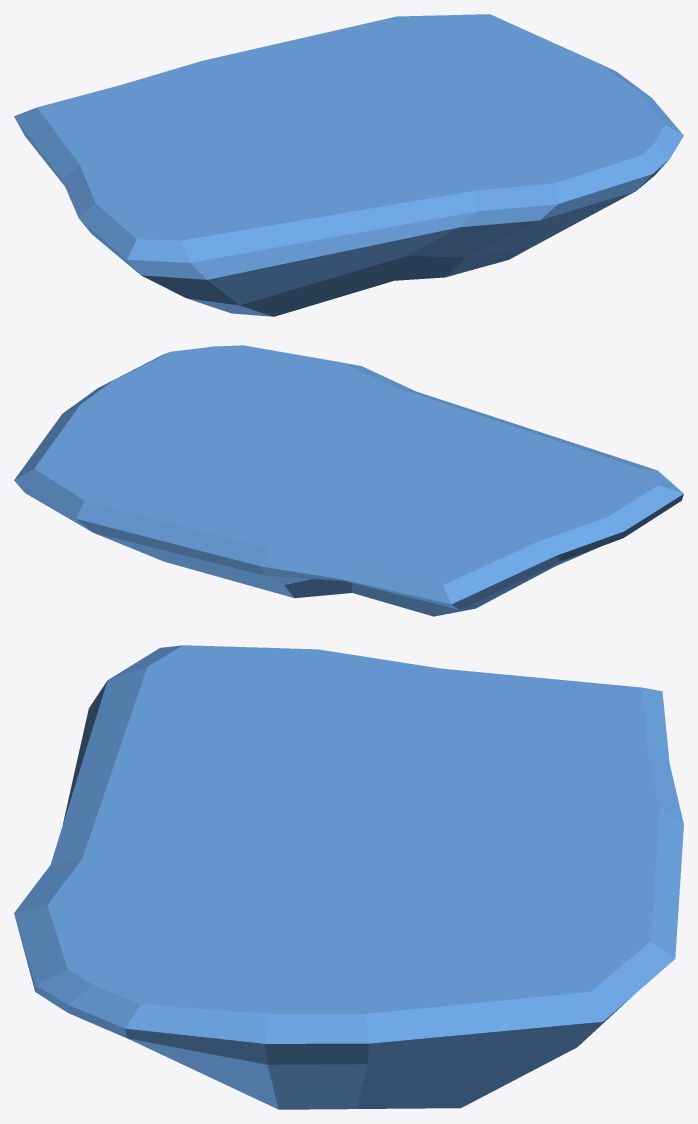
The model's file is slippery platform.fbx.
3 views of the same model, one above another, from view 1: azimuth 30°, elevation 25°; view 2: azimuth 150°, elevation 25°; view 3: azimuth 270°, elevation 25° (orthographic). The views are drawn at different scales.
Parts seen in each view (by area): view 1: Plane; view 2: Plane; view 3: Plane.
Part boxes in pixels (<box>): Plane: <box>14,14,683,316</box>; Plane: <box>14,345,683,616</box>; Plane: <box>14,645,683,1109</box>.
Size of the model in its own units: 163 by 31.09 by 117.
